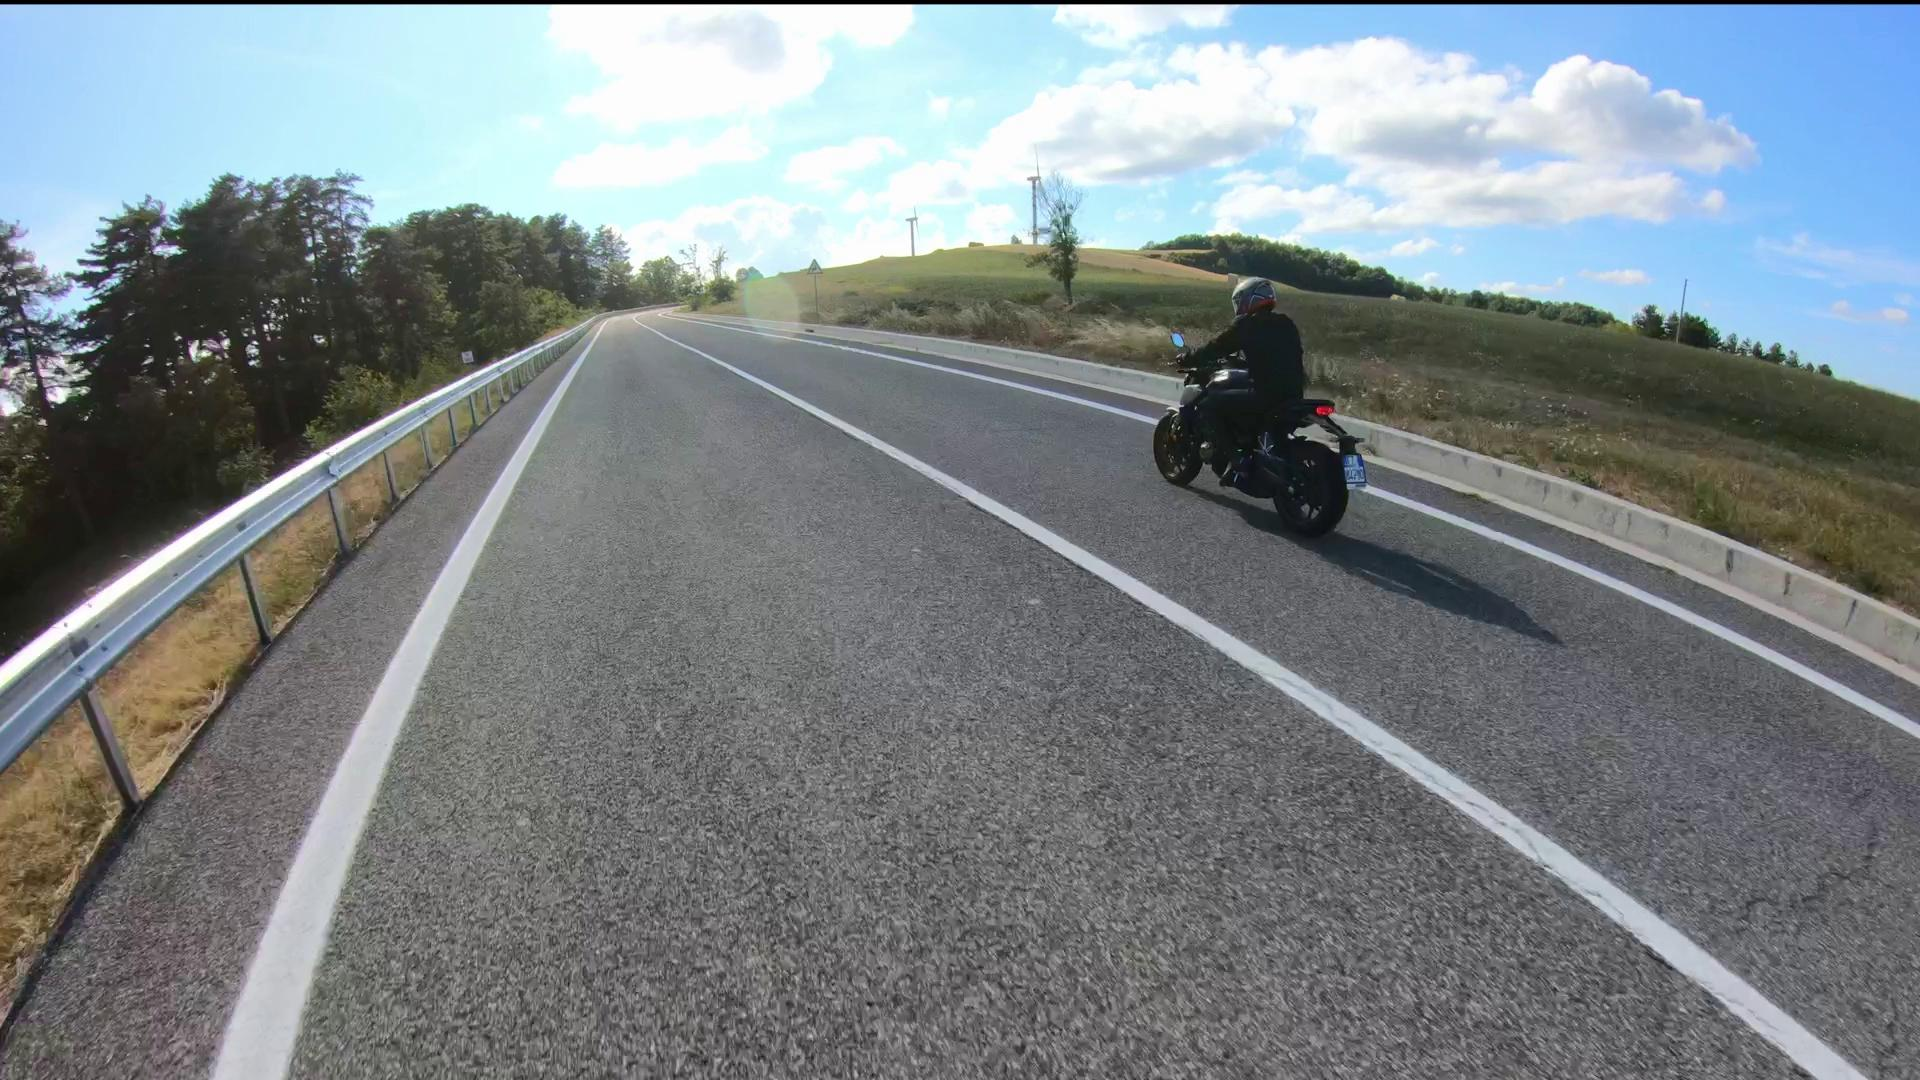cow: (1153, 332, 1375, 552)
horse: (1177, 270, 1315, 500)
